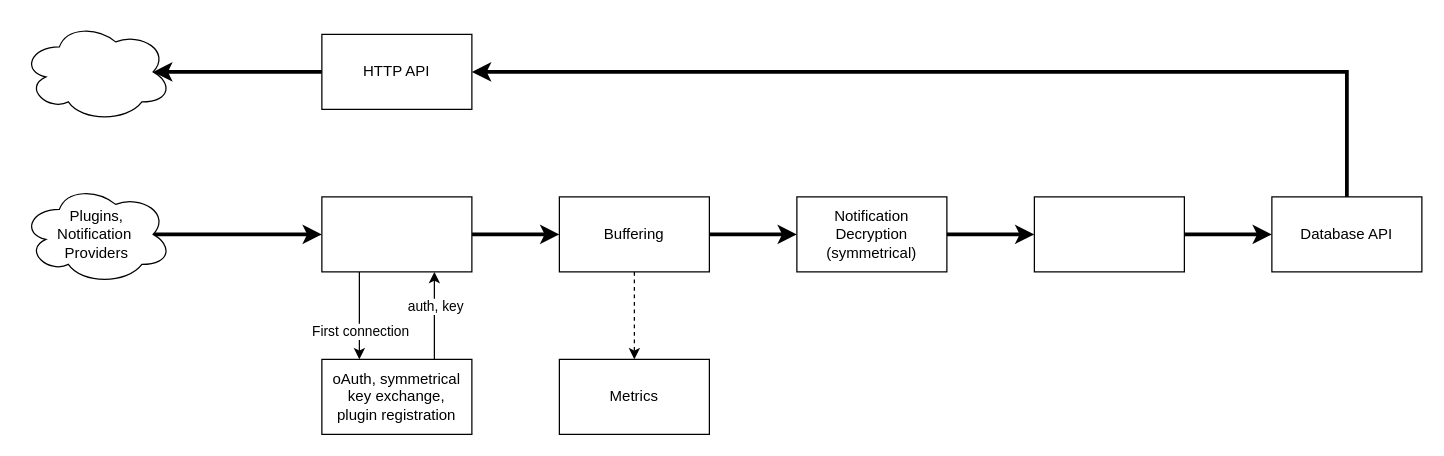
This 1444x456 diagram has some shape labels left out. The centre of each missing label's shape, as x and y in pixels:
"Frontend" belongs at (x=96, y=71).
"Notification Processing" belongs at (x=1108, y=234).
"PluginAPI (possibly msgpack)" belongs at (x=396, y=234).
